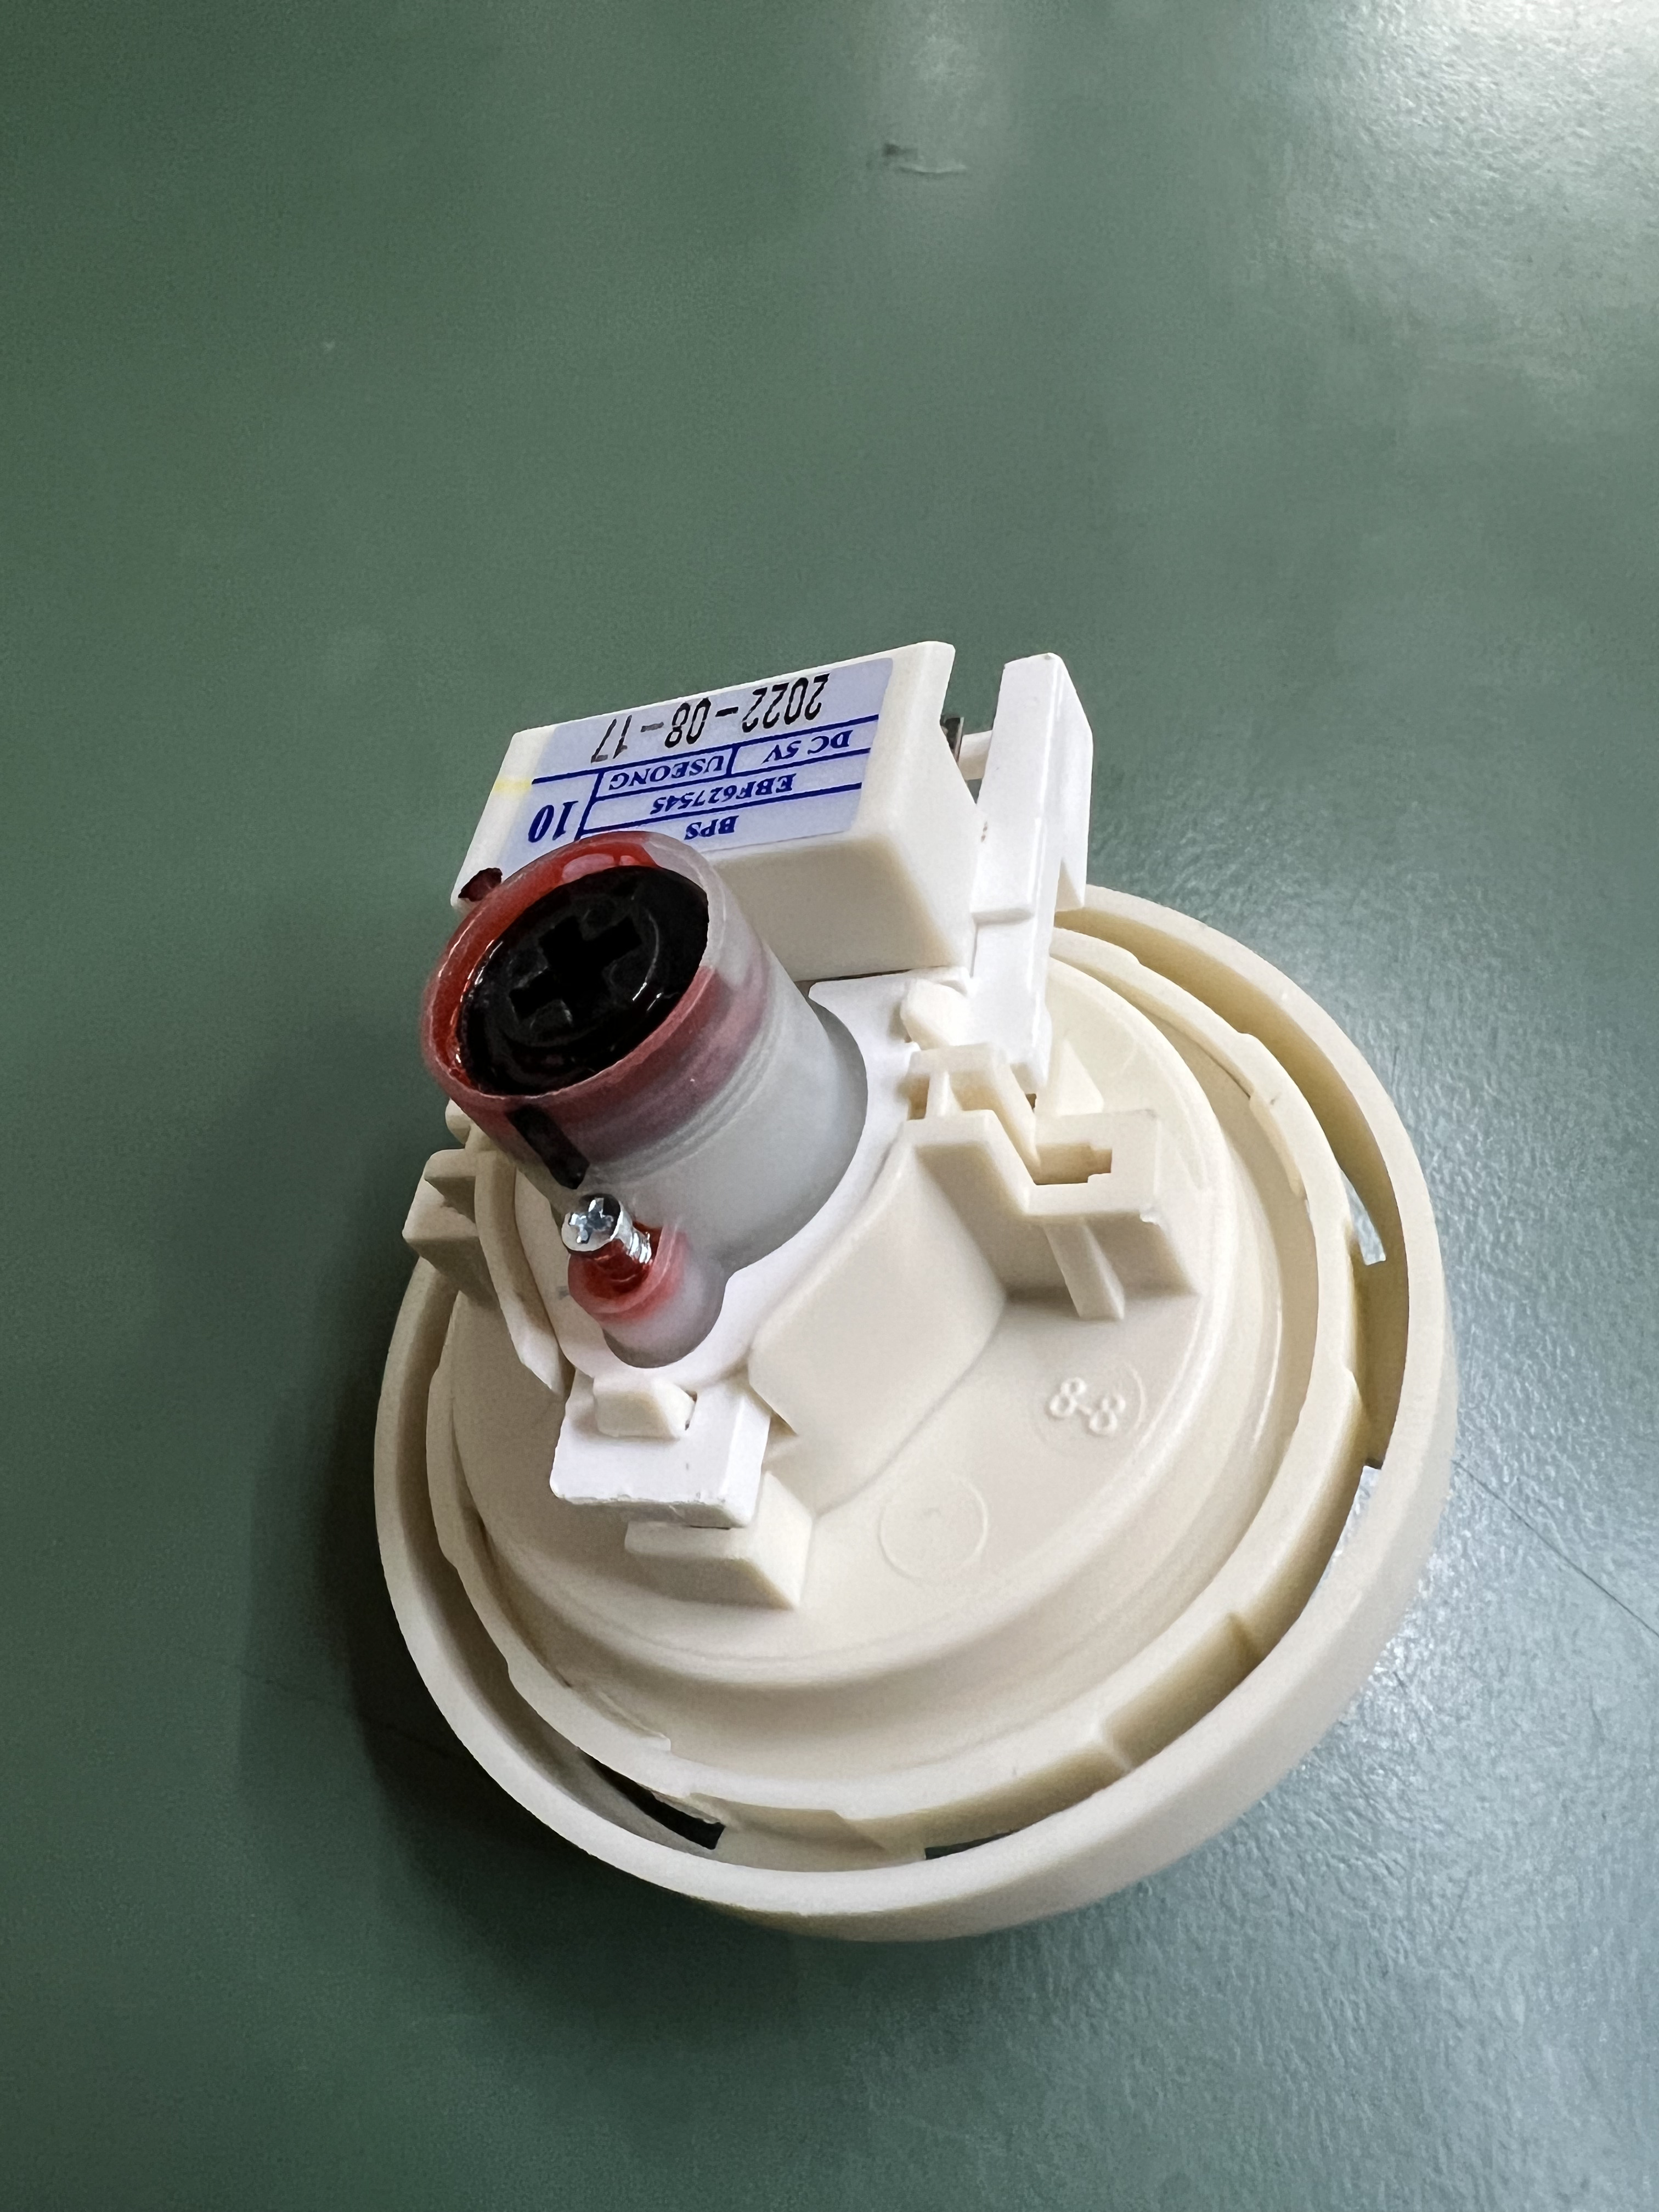pressure_sensor: (373, 648, 1478, 1952)
